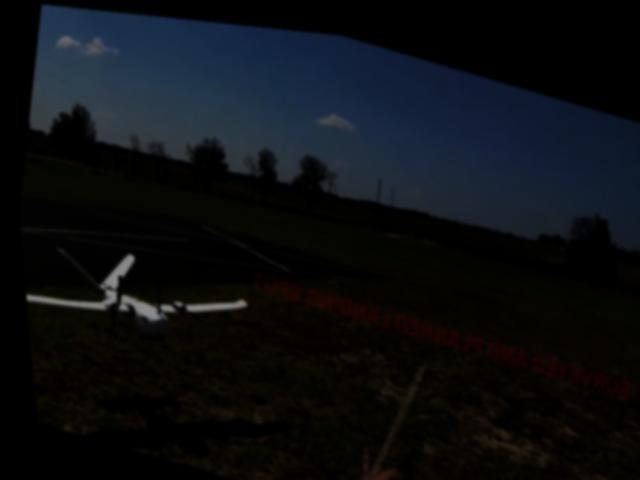plane: (15, 220, 248, 365)
